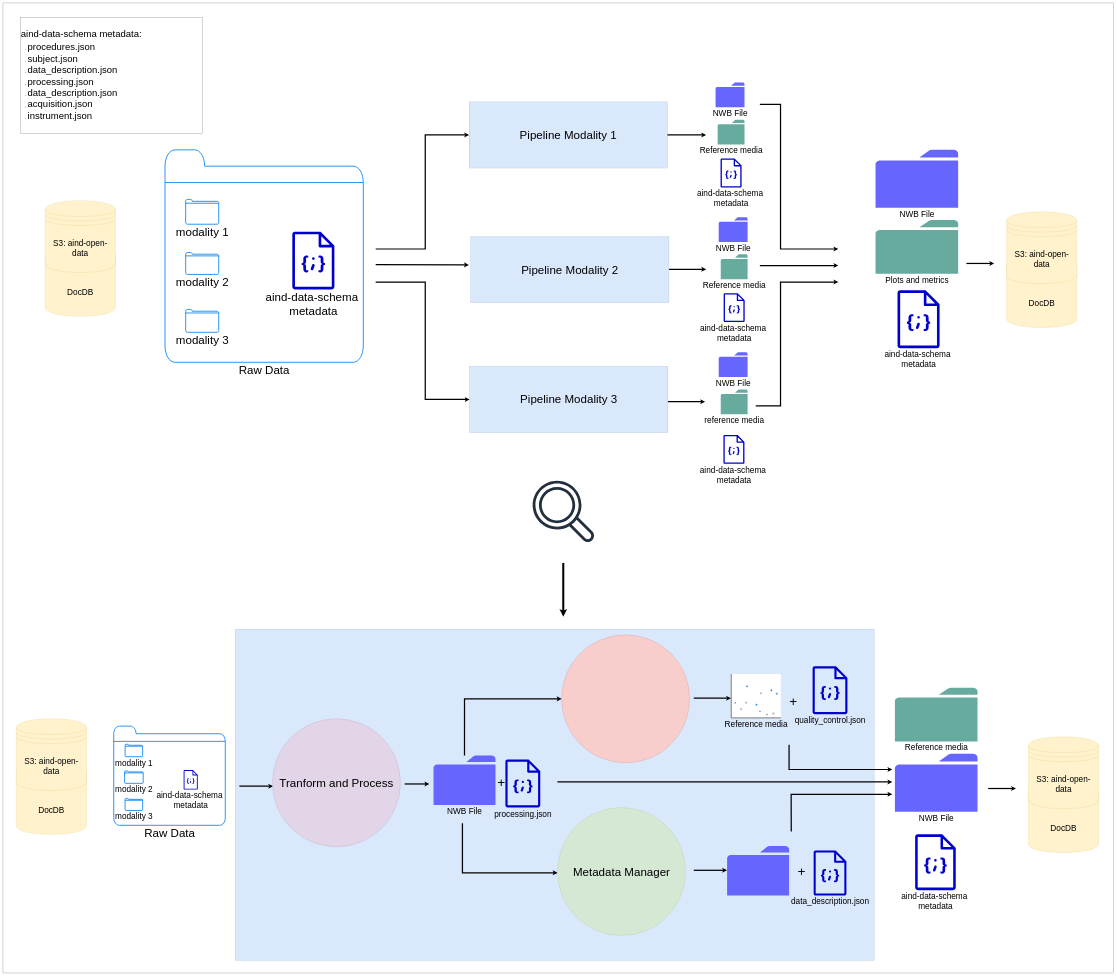
The diagram is 1117 pixels wide and 976 high, and some of its shapes have lost their labels. Each missing label, with the centre of its shape:
NWB File with aind-data-schema metadata: pixel 758 870
Pipeline N: pixel 564 511
QC NWB File: pixel 625 699
